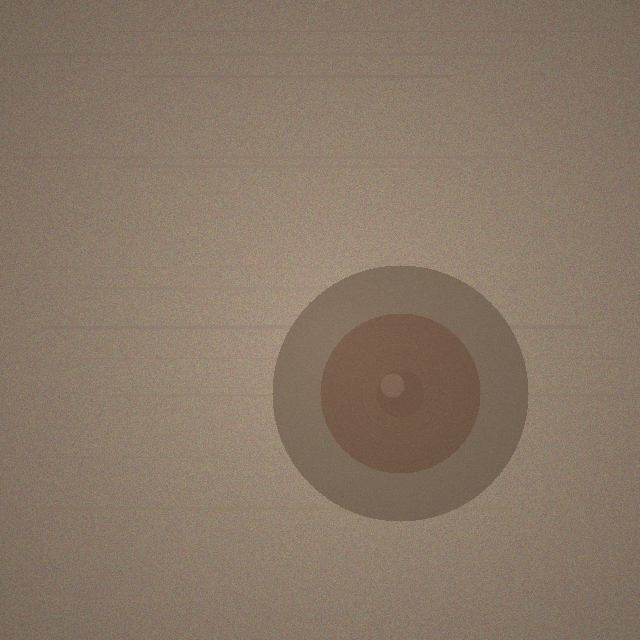good: (272, 265, 528, 521)
